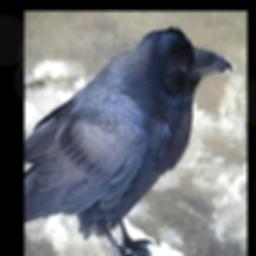Crow: (26, 26, 233, 256)
